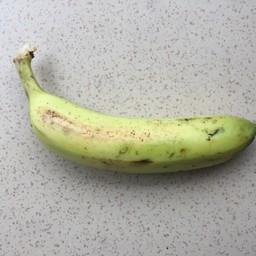Banana Ripe: (0, 66, 256, 206)
